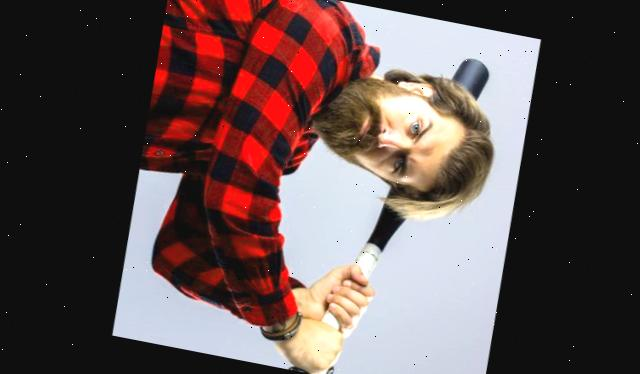baseball bat: (280, 30, 497, 374)
